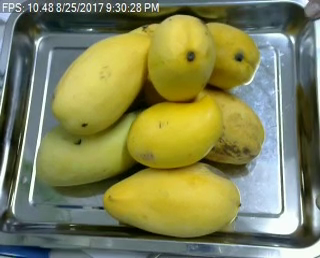Mango: (103, 159, 239, 239), (143, 77, 265, 166), (52, 33, 150, 133), (36, 107, 145, 184), (125, 96, 221, 167), (149, 12, 215, 102), (190, 23, 262, 89)
